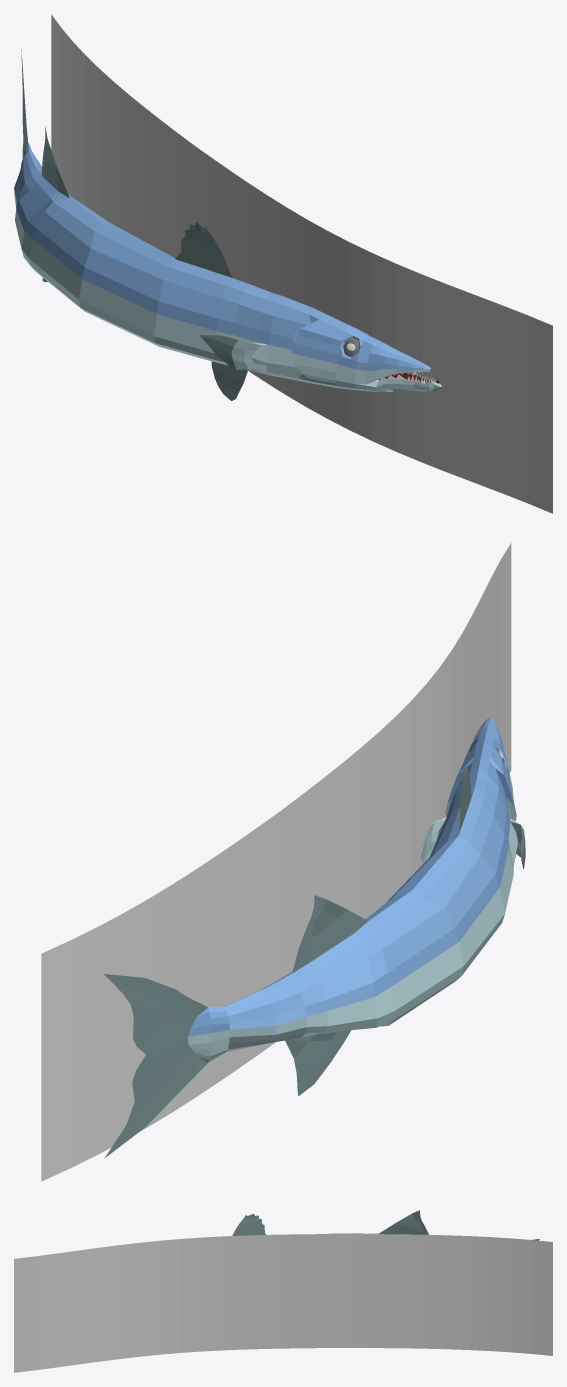
The model's file is ikan baracuda.fbx.
3 renders of one model, top to bottom at view 1: azimuth 30°, elevation 25°; view 2: azimuth 150°, elevation 25°; view 3: azimuth 270°, elevation 25°, orthographic. The views are drawn at different scales.
Parts seen in each view (by area): view 1: Plane, Object; view 2: Plane, Object; view 3: Plane, Object.
Boxes of the visible parts, left/top/right/bottom form: Plane: left=51, top=14, right=552, bottom=513; Object: left=14, top=49, right=441, bottom=400; Plane: left=41, top=543, right=511, bottom=1181; Object: left=104, top=717, right=525, bottom=1158; Plane: left=14, top=1234, right=552, bottom=1372; Object: left=232, top=1210, right=539, bottom=1240.
Size of the model in its own units: 447 by 369 by 1583.
